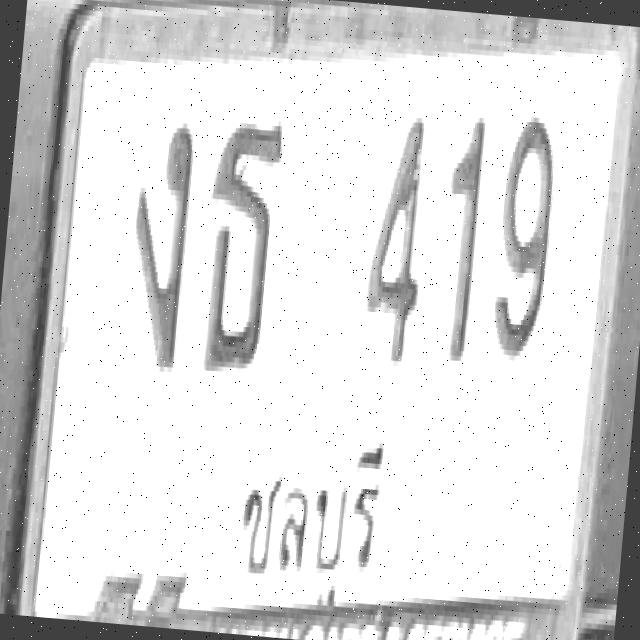1: (432, 107, 488, 364)
16NgorNgu: (120, 114, 197, 372)
33ThorThong: (194, 110, 286, 375)
4: (358, 109, 434, 368)
9: (488, 110, 560, 362)
Chonburi: (224, 421, 390, 602)
